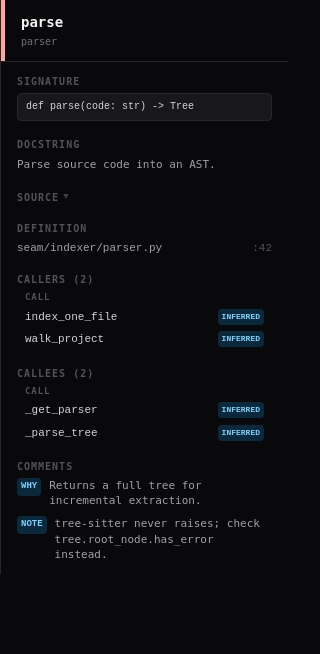
Test case: DetailPanel B4 — Source section: truncation note › shows a 'showing N of M lines' note when the snippet is truncated
Expected: the heading "parse" is shown, [21, 14, 63, 30]
Click the button "Source ▼": (144, 197) [17, 190, 272, 205]
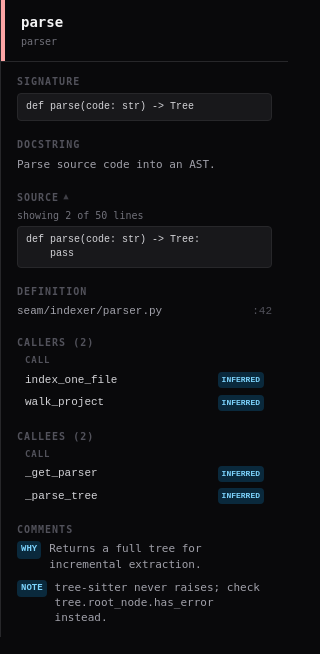
Expected: the text "showing 2 of 50 lines" is shown, [17, 210, 144, 221]
